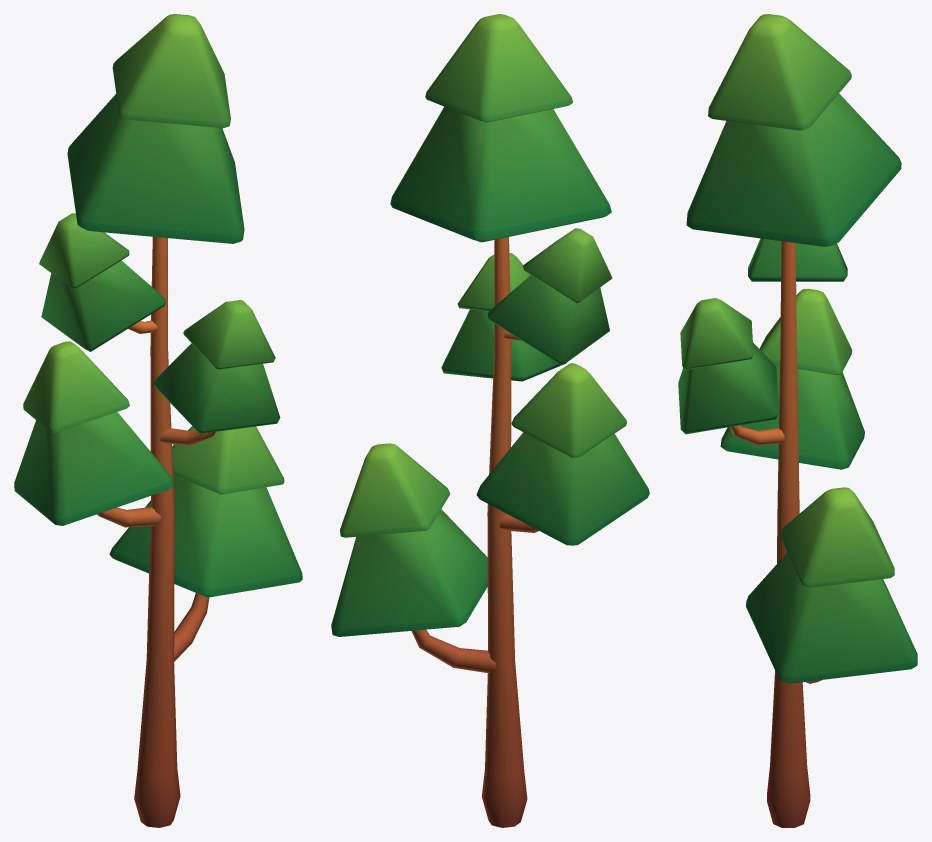
The model's file is Tree_4_C_Color1.fbx.
The picture shows the model from 3 angles, left to right: view 1: azimuth 30°, elevation 25°; view 2: azimuth 150°, elevation 25°; view 3: azimuth 270°, elevation 25°; orthographic projection. The views are drawn at different scales.
Parts seen in each view (by area): view 1: Tree_4_C_Color1; view 2: Tree_4_C_Color1; view 3: Tree_4_C_Color1.
Boxes of the visible parts, x1,y1,x2,y2 form: Tree_4_C_Color1: [14, 14, 302, 827]; Tree_4_C_Color1: [331, 14, 649, 827]; Tree_4_C_Color1: [678, 14, 917, 827].
Bounding box in the file's own units: 3.74 × 10.77 × 2.87.
